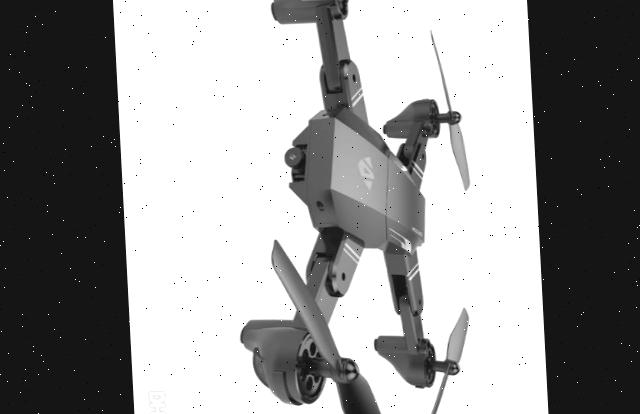drone: (215, 0, 505, 414)
